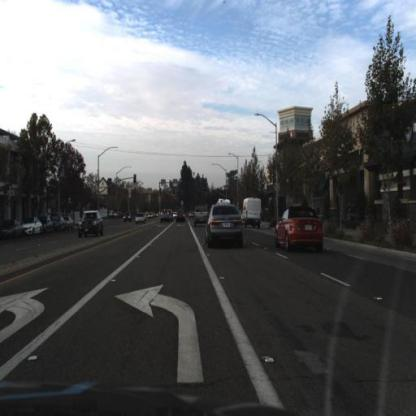car: (274, 207, 324, 257), (205, 200, 244, 251), (76, 208, 106, 243), (77, 210, 108, 239), (242, 195, 265, 232), (1, 219, 26, 243), (195, 205, 213, 228), (24, 218, 45, 237), (159, 205, 174, 229), (40, 216, 55, 237), (63, 212, 76, 235), (176, 205, 189, 228), (52, 214, 66, 235), (131, 212, 151, 226), (64, 213, 76, 233)
truck: (242, 197, 264, 229)
